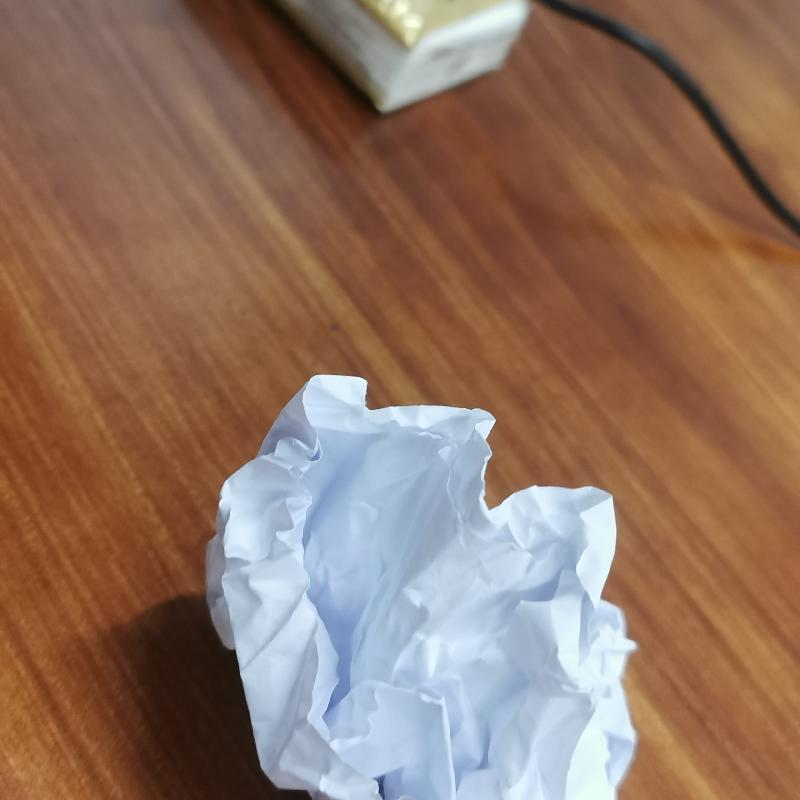spitball: (193, 368, 642, 800)
